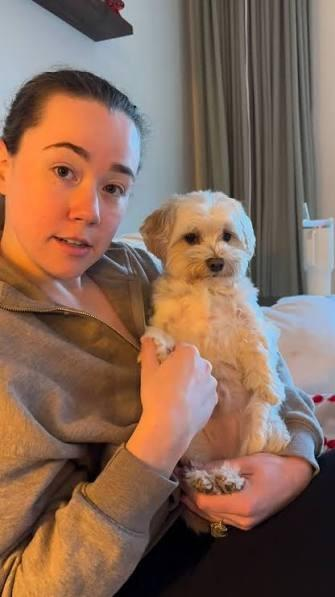adult_dog: (139, 190, 292, 499)
non-dog: (0, 68, 323, 597)
